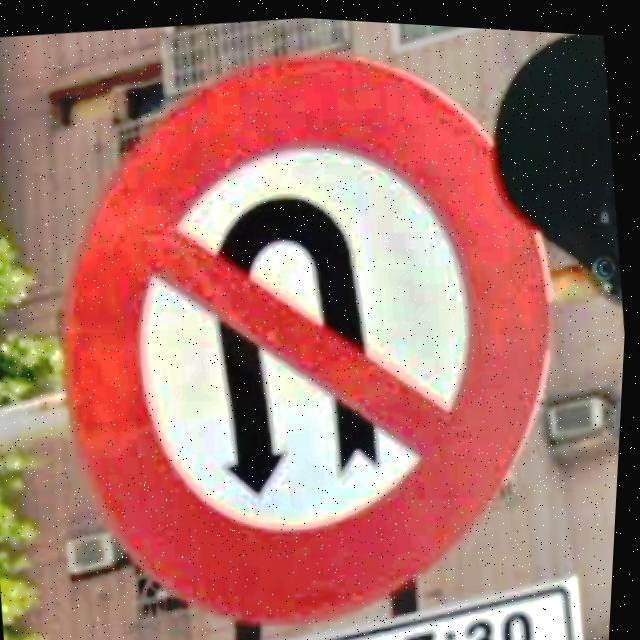nouturn: (65, 49, 555, 622)
